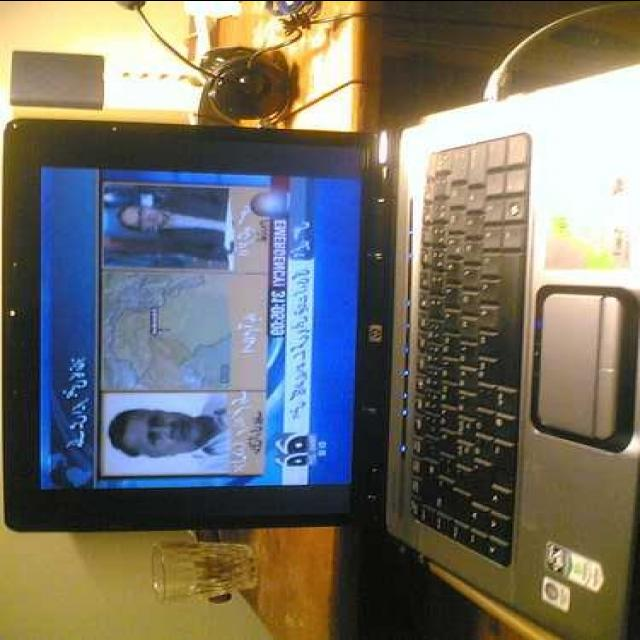laptop: (10, 105, 640, 640)
